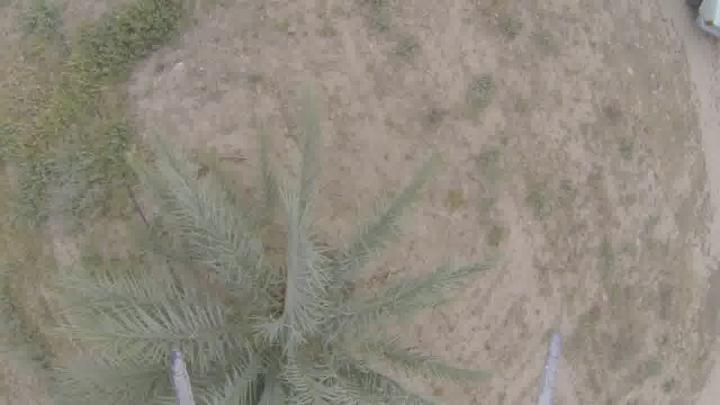Date-Palm-Crown: (178, 214, 384, 404)
